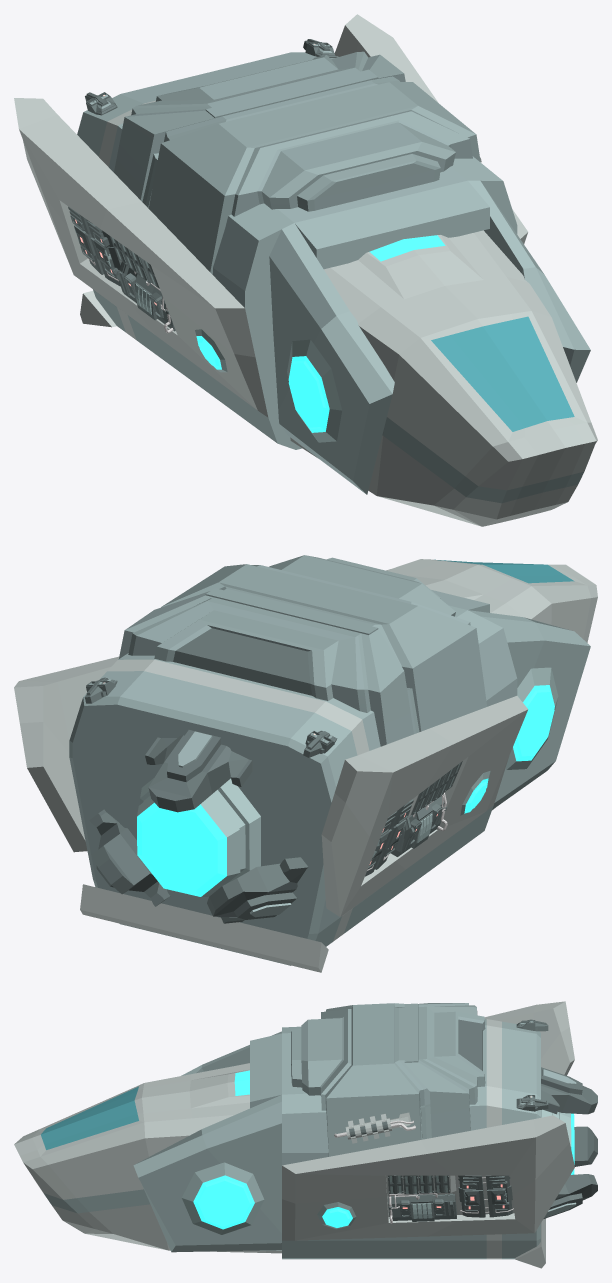
The model's file is SpaceShip.fbx.
The picture shows the model from 3 angles, top to bottom: view 1: azimuth 30°, elevation 25°; view 2: azimuth 150°, elevation 25°; view 3: azimuth 270°, elevation 25°; orthographic projection. The views are drawn at different scales.
Parts seen in each view (by area): view 1: SpaceShip, Elephant_Block.001, EnginePieces, falseBlock; view 2: SpaceShip, Elephant_Block.001, SpaceShip.005, Stub_Wing, Stub_Wing.001, EnginePieces, Stub_Wing.002, falseBlock; view 3: SpaceShip, Elephant_Block.001, EnginePieces, Stub_Wing, Stub_Wing.002, Decal, Stub_Wing.001, falseBlock, SpaceShip.005.
Part boxes in pixels (x1,y1,x2,y2): SpaceShip: (14,14,597,526); Elephant_Block.001: (114,51,480,274); EnginePieces: (68,206,175,333); falseBlock: (85,39,337,115); SpaceShip: (14,559,597,972); Elephant_Block.001: (119,555,487,746); SpaceShip.005: (137,778,260,896); Stub_Wing: (145,730,252,812); Stub_Wing.001: (207,857,308,923); EnginePieces: (365,761,462,876); Stub_Wing.002: (89,809,169,906); falseBlock: (84,677,337,757); SpaceShip: (14,1001,574,1268); Elephant_Block.001: (291,1003,485,1156); EnginePieces: (388,1175,513,1223); Stub_Wing: (541,1067,597,1114); Stub_Wing.002: (543,1174,597,1218); Decal: (334,1112,415,1143); Stub_Wing.001: (574,1126,597,1166); falseBlock: (516,1019,548,1111); SpaceShip.005: (541,1109,574,1174).
Size of the model in its own units: 393 by 272 by 732.
